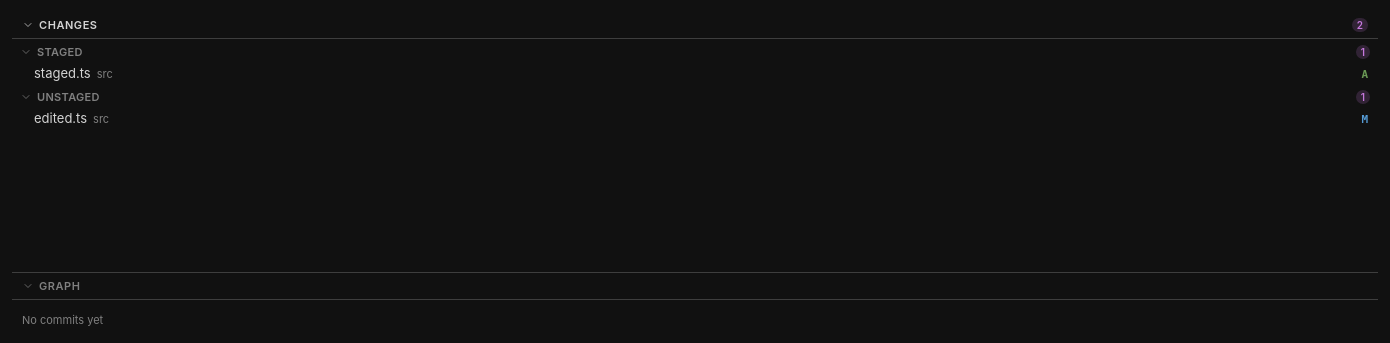
GitChangesSection › collapses a single group without hiding the others
Click the text "Staged": (60, 52) [37,45,83,59]
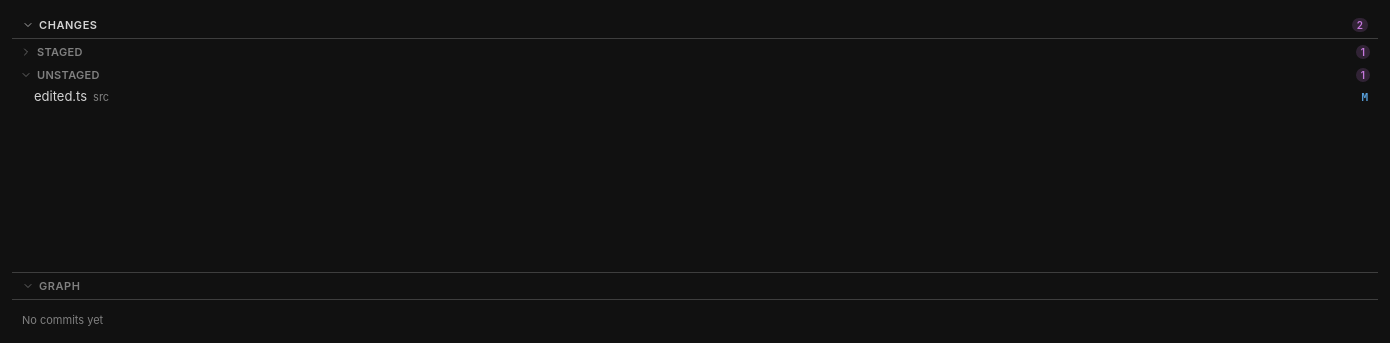
Expected: the text "edited.ts" is shown, [34,88,87,104]
Now the button "staged.ts" is gone
